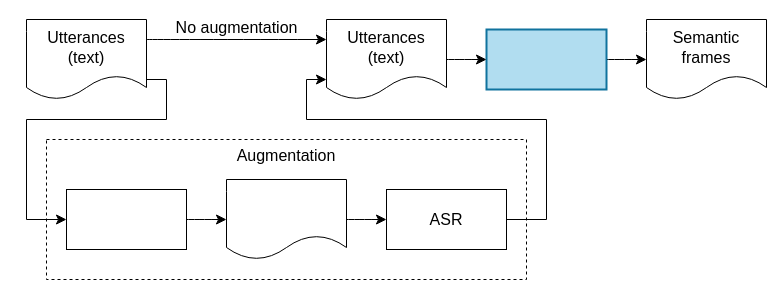
Some shapes in this 784 by 297 pixel diagram are drawn without their labels. Here are the shapes that lost their labels. From the top down, the centre of each, then its label:
At [546,59]: "NLU".
At [126,219]: "TTS".
At [286,219]: "Utterances (speech)".
